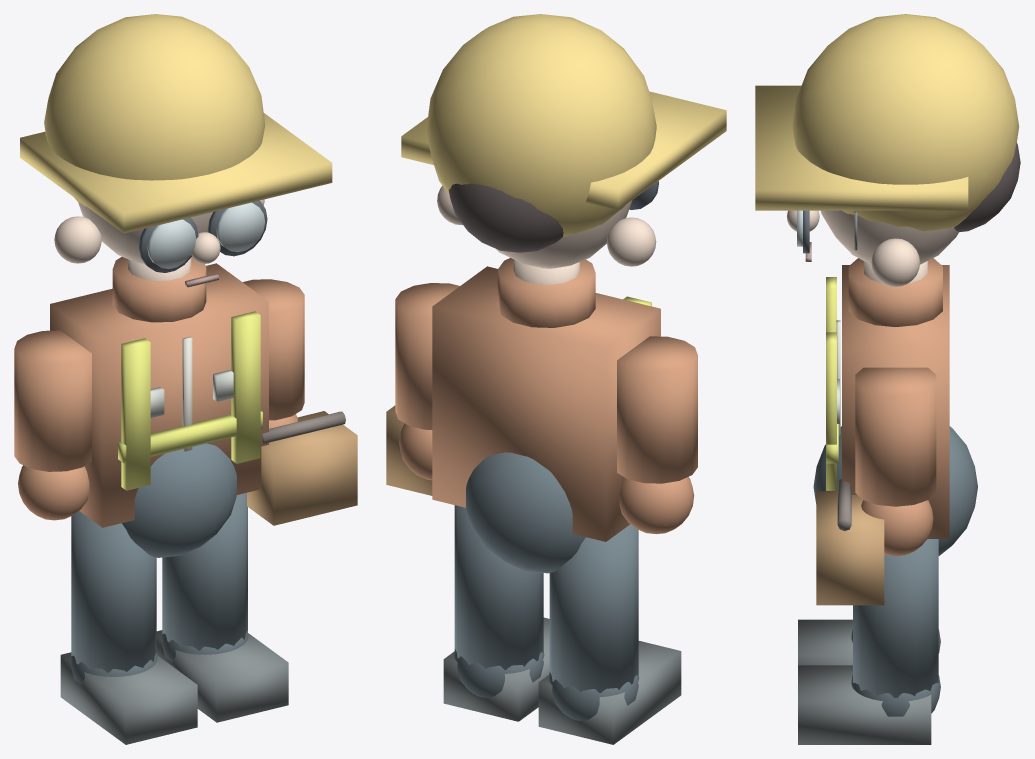
The model's file is mercy_person_15.glb.
The picture shows the model from 3 angles, left to right: view 1: azimuth 30°, elevation 25°; view 2: azimuth 150°, elevation 25°; view 3: azimuth 270°, elevation 25°; orthographic projection. The views are drawn at different scales.
Parts seen in each view (by area): view 1: SkinClothing_10, SkinClothing_0, Arm_Left, Leg_Left, SkinClothing_5, Leg_Right, SkinClothing_1, SkinClothing_12, Boot_Left, Boot_Right, Arm_Right, SkinClothing_2 (+5 smaller); view 2: SkinClothing_10, SkinClothing_0, Leg_Left, Arm_Left, Leg_Right, SkinClothing_1, Arm_Right, Boot_Left, SkinClothing_2, SkinClothing_9, Boot_Right, SkinClothing_12; view 3: SkinClothing_10, SkinClothing_0, Arm_Right, Leg_Right, Boot_Right, SkinClothing_12, SkinClothing_2, SkinClothing_1, Boot_Left, SkinClothing_5, SkinClothing_9, SkinClothing_13.
Boxes of the visible parts, x1,y1,x2,y2 form: SkinClothing_10: [20, 14, 332, 233]; SkinClothing_0: [50, 257, 268, 527]; Arm_Left: [14, 330, 91, 520]; Leg_Left: [70, 511, 157, 684]; SkinClothing_5: [118, 311, 262, 490]; Leg_Right: [161, 492, 248, 662]; SkinClothing_1: [122, 443, 236, 557]; SkinClothing_12: [247, 411, 357, 525]; Boot_Left: [60, 652, 197, 744]; Boot_Right: [156, 630, 288, 722]; Arm_Right: [243, 279, 304, 428]; SkinClothing_2: [54, 199, 264, 280]; SkinClothing_10: [401, 14, 726, 236]; SkinClothing_0: [432, 258, 660, 541]; Leg_Left: [549, 524, 639, 720]; Arm_Left: [617, 336, 697, 534]; Leg_Right: [454, 505, 544, 697]; SkinClothing_1: [466, 452, 585, 573]; Arm_Right: [395, 283, 459, 480]; Boot_Left: [538, 641, 681, 744]; SkinClothing_2: [437, 186, 656, 284]; SkinClothing_9: [448, 183, 563, 252]; Boot_Right: [443, 617, 549, 721]; SkinClothing_12: [386, 405, 432, 495]; SkinClothing_10: [755, 14, 1019, 231]; SkinClothing_0: [842, 258, 949, 538]; Arm_Right: [855, 367, 936, 556]; Leg_Right: [851, 539, 940, 716]; Boot_Right: [798, 665, 931, 744]; SkinClothing_12: [816, 491, 884, 605]; SkinClothing_2: [787, 210, 958, 286]; SkinClothing_1: [813, 426, 977, 555]; Boot_Left: [798, 619, 852, 665]; SkinClothing_5: [826, 277, 838, 490]; SkinClothing_9: [954, 143, 1020, 232]; SkinClothing_13: [837, 479, 851, 531].
Size of the model in its own units: 1.27 by 2.7 by 0.9525.
